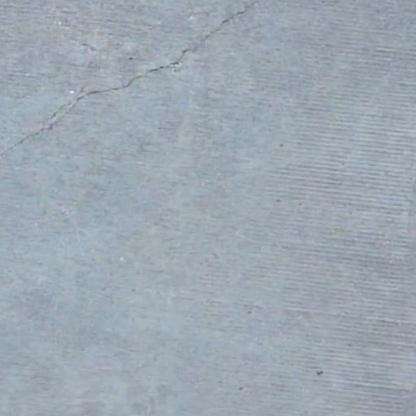Cracks: (0, 0, 301, 173)
